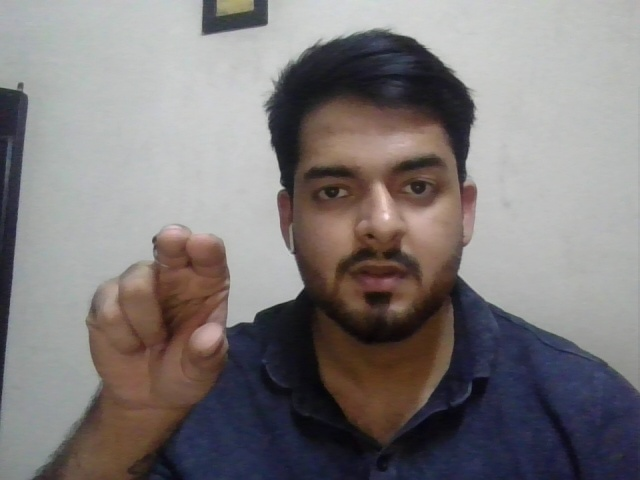no: (83, 221, 232, 410)
